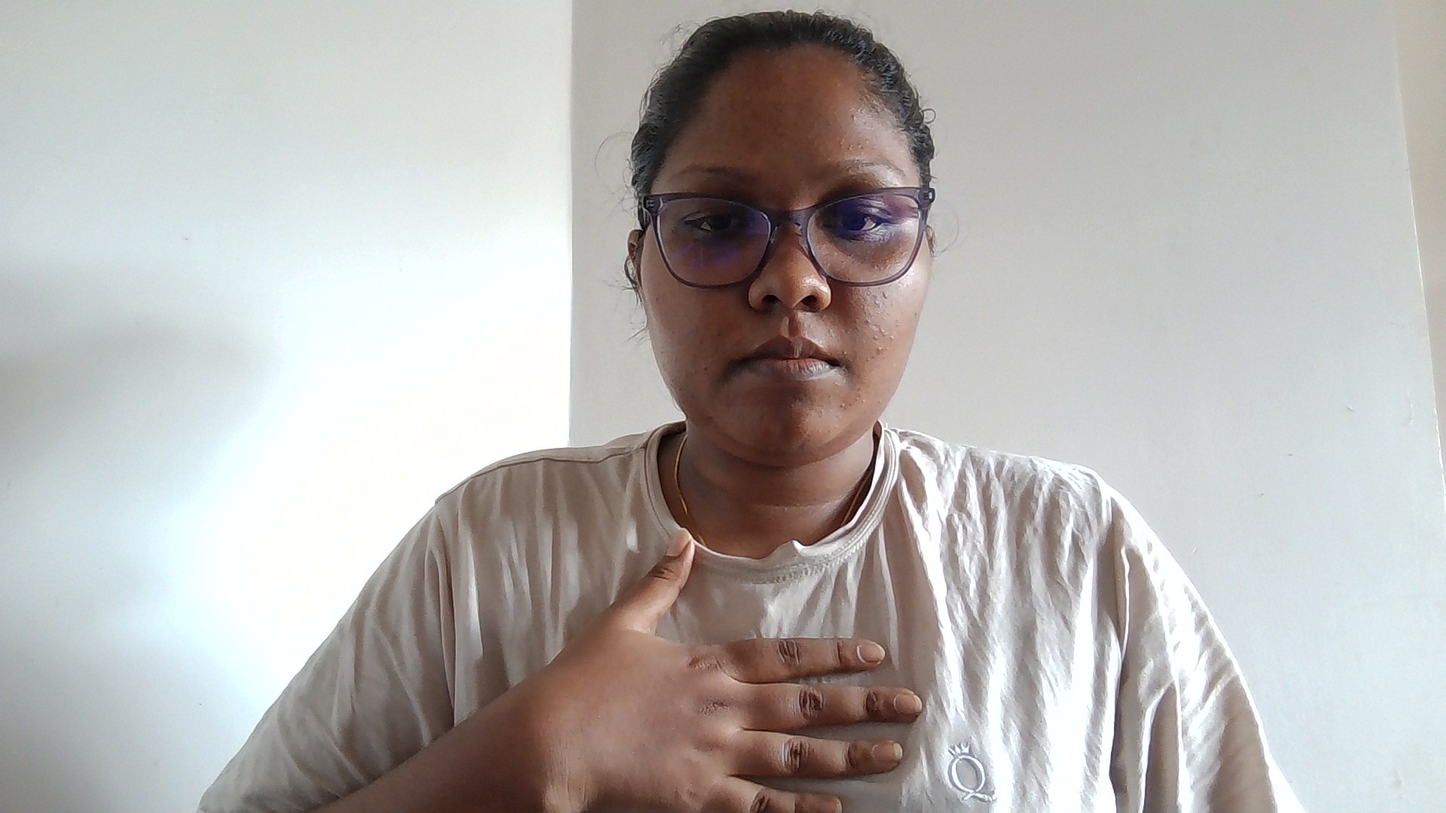Please: (461, 520, 961, 813)
